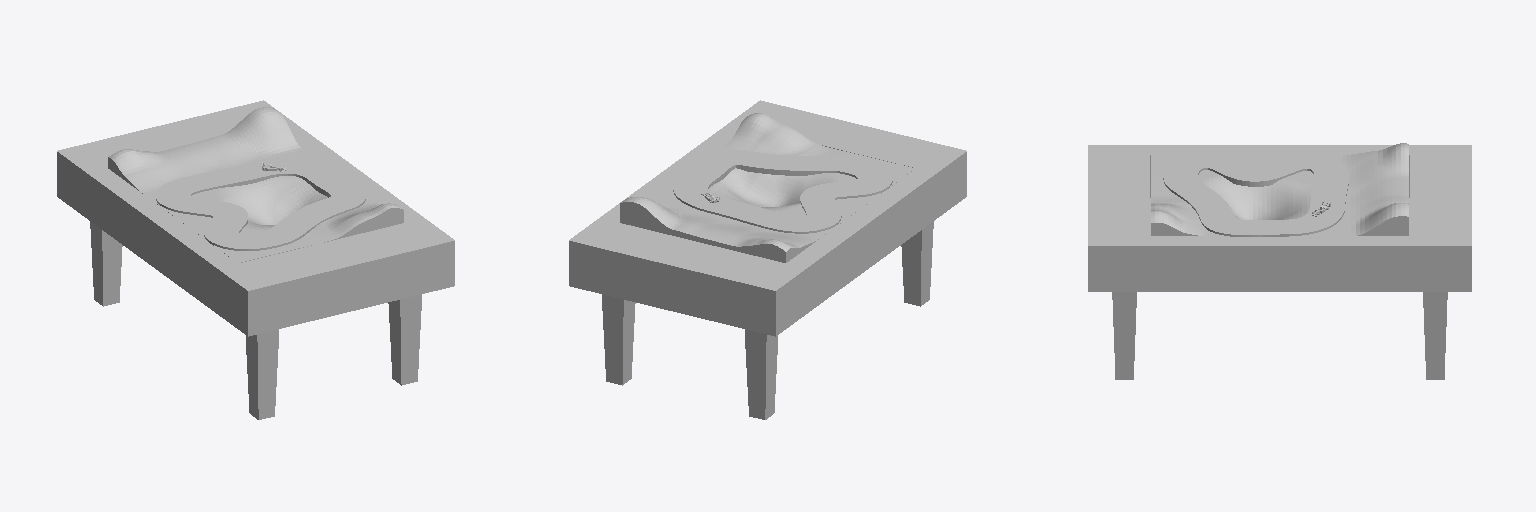
The model's file is NewestTisch11.obj.
3 renders of one model, left to right at view 1: azimuth 30°, elevation 25°; view 2: azimuth 150°, elevation 25°; view 3: azimuth 270°, elevation 25°, orthographic.
Parts seen in each view (by area): view 1: Tischplatte_wood_table_001, Landschaft_aerial_grass_rock, off, Bein1_wood_table_001, Bein4_wood_table_001.003, Bein3_wood_table_001.002; view 2: Tischplatte_wood_table_001, Landschaft_aerial_grass_rock, off, Bein2_wood_table_001.001, Bein3_wood_table_001.002, Bein4_wood_table_001.003; view 3: Tischplatte_wood_table_001, Landschaft_aerial_grass_rock, off, Bein1_wood_table_001, Bein2_wood_table_001.001.
Boxes of the visible parts, x1=… form: Tischplatte_wood_table_001: x1=57, y1=100, x2=454, y2=336; Landschaft_aerial_grass_rock: x1=108, y1=107, x2=403, y2=262; off: x1=156, y1=159, x2=365, y2=250; Bein1_wood_table_001: x1=388, y1=294, x2=421, y2=385; Bein4_wood_table_001.003: x1=246, y1=329, x2=278, y2=419; Bein3_wood_table_001.002: x1=90, y1=221, x2=122, y2=306; Tischplatte_wood_table_001: x1=569, y1=100, x2=966, y2=336; Landschaft_aerial_grass_rock: x1=620, y1=113, x2=915, y2=262; off: x1=673, y1=150, x2=892, y2=233; Bein2_wood_table_001.001: x1=602, y1=294, x2=635, y2=385; Bein3_wood_table_001.002: x1=745, y1=329, x2=777, y2=419; Bein4_wood_table_001.003: x1=901, y1=221, x2=933, y2=306; Tischplatte_wood_table_001: x1=1088, y1=145, x2=1471, y2=291; Landschaft_aerial_grass_rock: x1=1151, y1=143, x2=1408, y2=235; off: x1=1163, y1=153, x2=1348, y2=236; Bein1_wood_table_001: x1=1112, y1=292, x2=1136, y2=379; Bein2_wood_table_001.001: x1=1423, y1=292, x2=1447, y2=379.
Size of the model in its own units: 5 by 3.91 by 8.